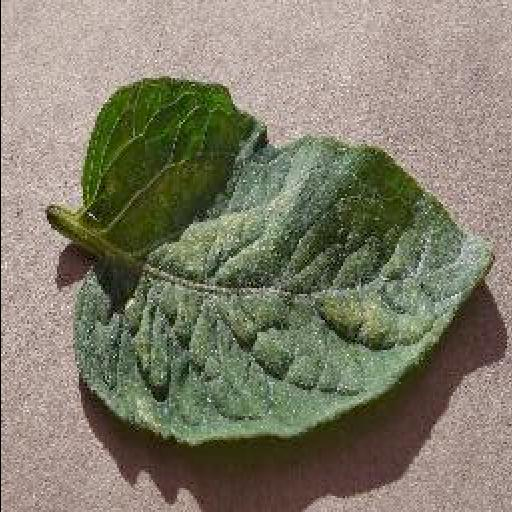disease_tomato: (74, 80, 496, 446)
